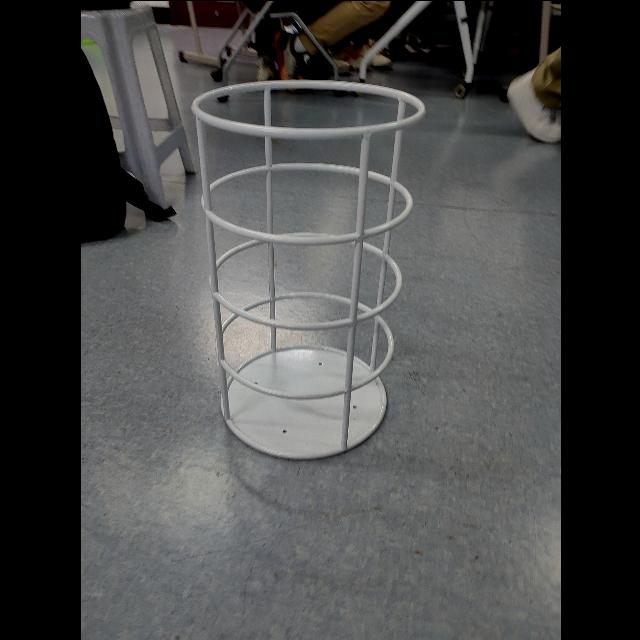S: (186, 76, 428, 464)
